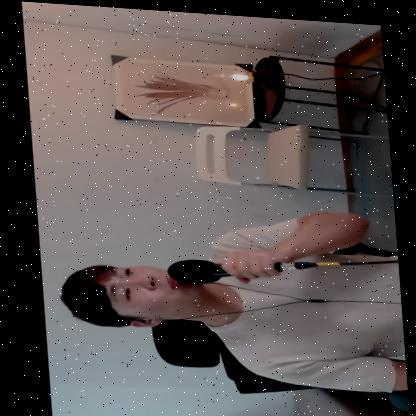streamer: (46, 193, 403, 390)
